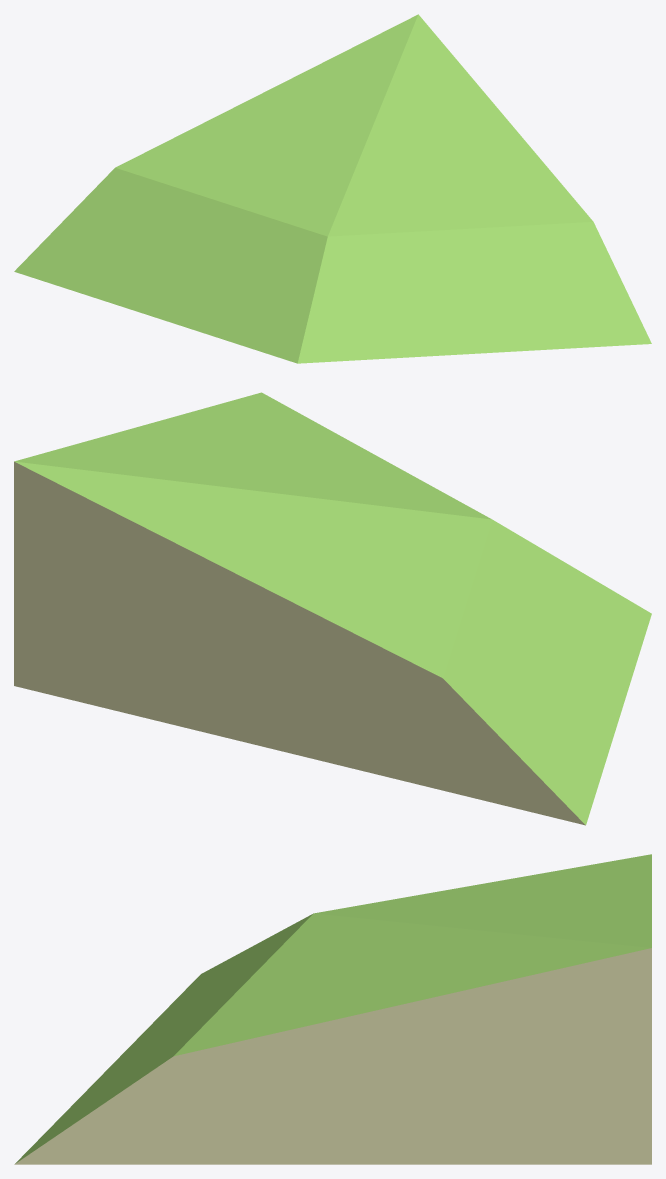
Rendered from Grass_Carpet_Curve_Outer_1x1.glb.
3 views of the same model, one above another, from view 1: azimuth 30°, elevation 25°; view 2: azimuth 150°, elevation 25°; view 3: azimuth 270°, elevation 25° (orthographic). The views are drawn at different scales.
Visible parts, largest first — view 1: Grass_Carpet_Curve_Outer_1x1; view 2: Grass_Carpet_Curve_Outer_1x1; view 3: Grass_Carpet_Curve_Outer_1x1.
Part boxes in pixels (<box>): Grass_Carpet_Curve_Outer_1x1: <box>14,14,651,363</box>; Grass_Carpet_Curve_Outer_1x1: <box>14,392,651,825</box>; Grass_Carpet_Curve_Outer_1x1: <box>14,854,651,1164</box>.
Size of what is drawn, in the model's own units: 66.67 by 25 by 66.67.
